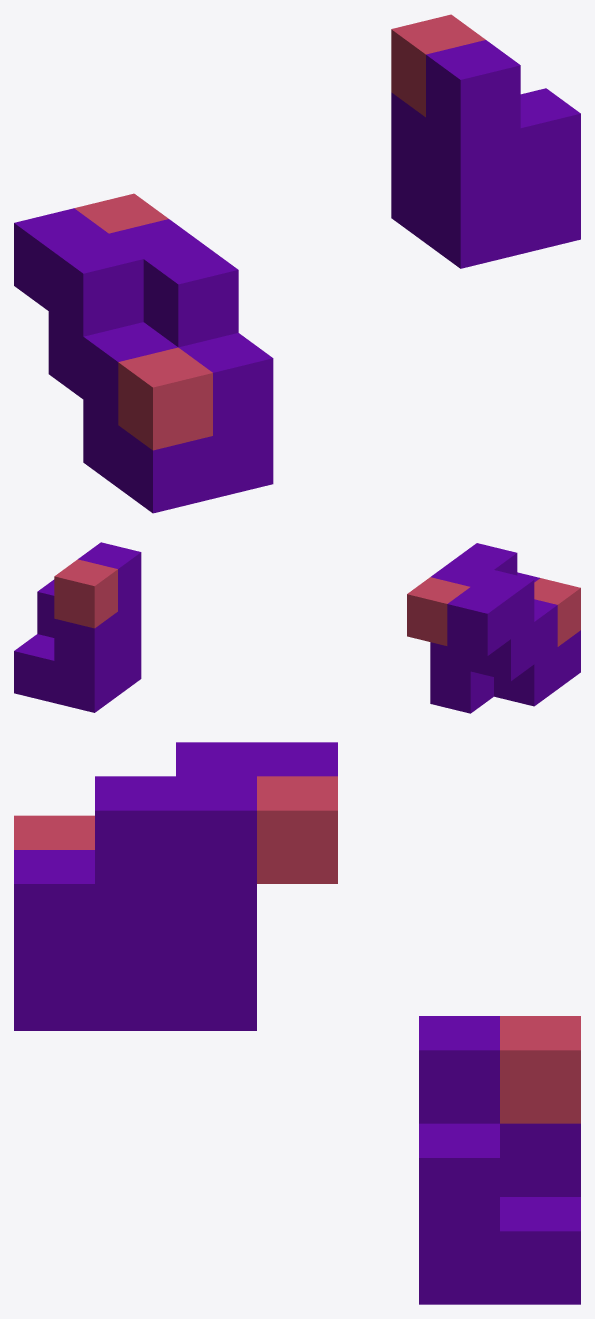
The model's file is Octo guy leg 2.obj.
3 views of the same model, one above another, from view 1: azimuth 30°, elevation 25°; view 2: azimuth 150°, elevation 25°; view 3: azimuth 270°, elevation 25° (orthographic). The views are drawn at different scales.
Size of the model in its own units: 10 by 3 by 7.
1 material, 1 textured.
